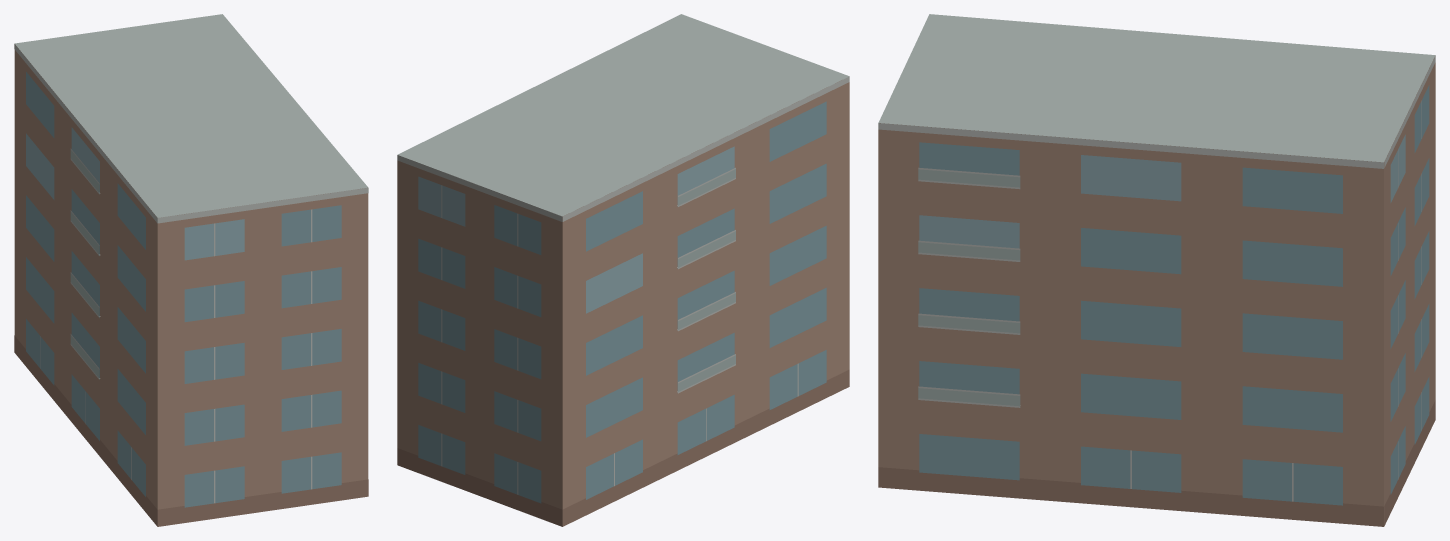
File: survey-upis-32536618.glb
The picture shows the model from 3 angles, left to right: view 1: azimuth 30°, elevation 25°; view 2: azimuth 150°, elevation 25°; view 3: azimuth 270°, elevation 25°; orthographic projection. The views are drawn at different scales.
Visible parts, largest first — view 1: survey-upis-32536618.tmp; view 2: survey-upis-32536618.tmp; view 3: survey-upis-32536618.tmp.
Boxes of the visible parts, bbox=[...] form: survey-upis-32536618.tmp: bbox=[14, 14, 368, 526]; survey-upis-32536618.tmp: bbox=[397, 14, 849, 526]; survey-upis-32536618.tmp: bbox=[878, 14, 1435, 526].
Size of the model in its own units: 11.79 by 13.5 by 18.71.
